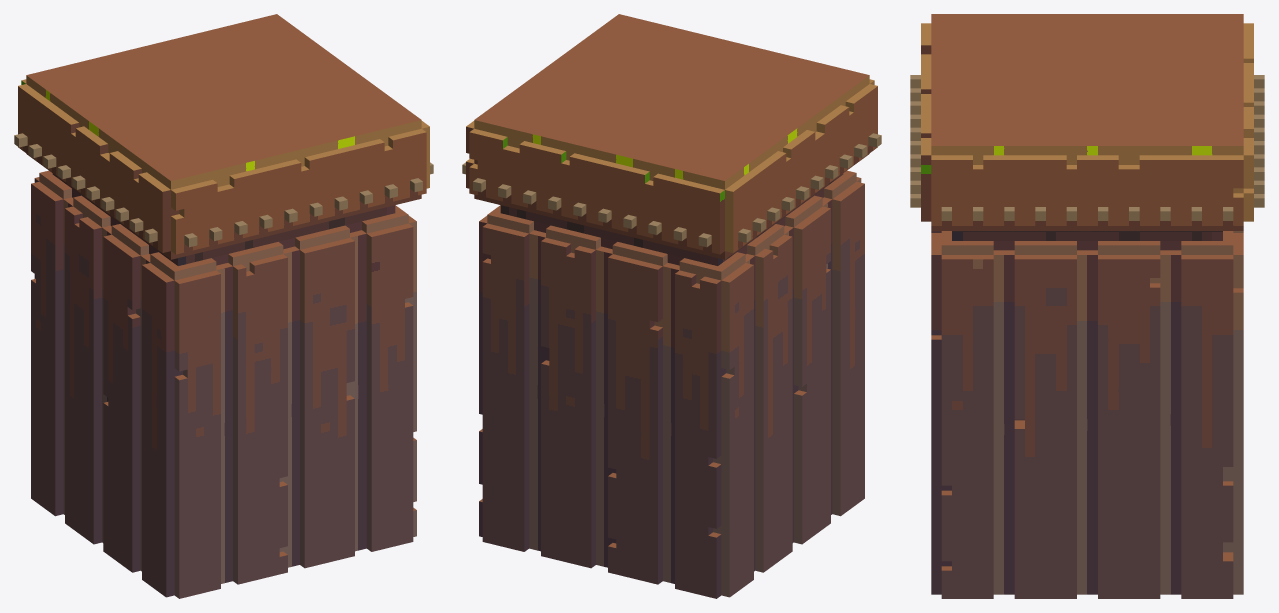
The model's file is piston_bigao.fezao.glb.
The picture shows the model from 3 angles, left to right: view 1: azimuth 30°, elevation 25°; view 2: azimuth 150°, elevation 25°; view 3: azimuth 270°, elevation 25°; orthographic projection. The views are drawn at different scales.
Visible parts, largest first — view 1: PISTON_BIGAO; view 2: PISTON_BIGAO; view 3: PISTON_BIGAO.
Boxes of the visible parts, x1,y1,x2,y2 form: PISTON_BIGAO: (14, 14, 433, 598); PISTON_BIGAO: (462, 14, 881, 598); PISTON_BIGAO: (910, 14, 1264, 598).
Bounding box in the file's own units: 2.12 × 3 × 2.12.
1 material, 1 textured.
